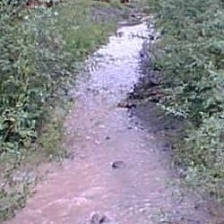neutral: (11, 2, 222, 222)
